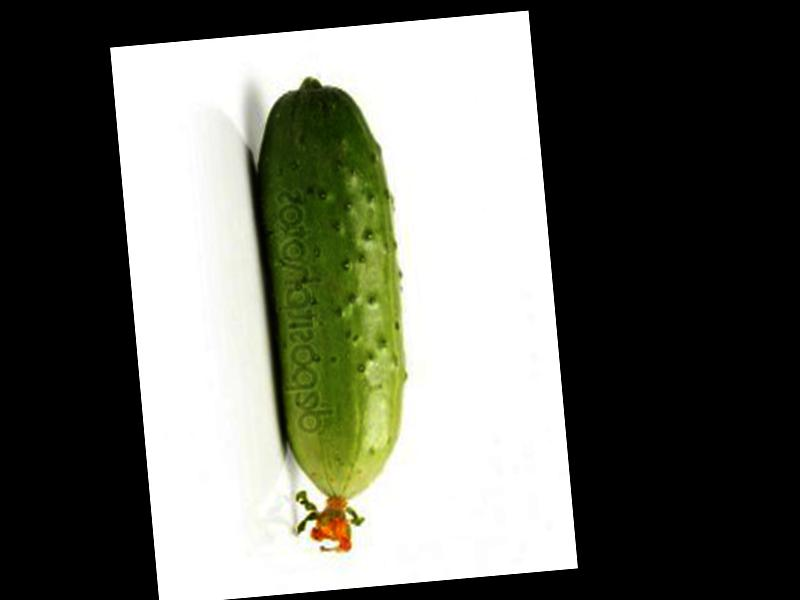Cucumber: (244, 70, 422, 554)
